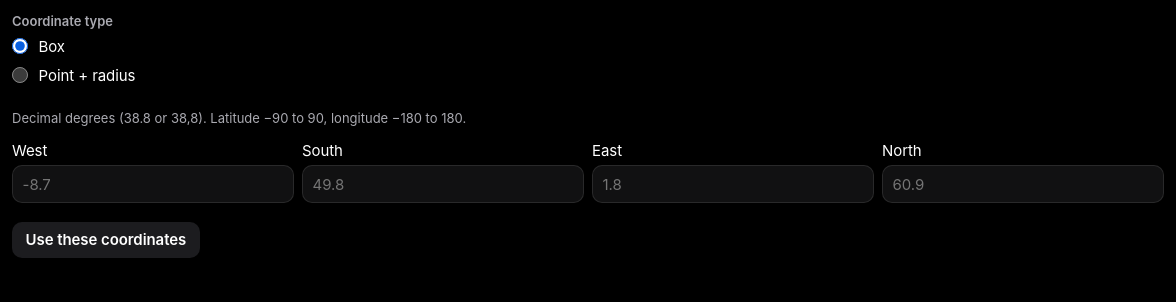
Scenario: CoordinateForm › shows a friendly error and does not submit
The image size is (1176, 302).
Type "5" into the field labelled "West" at (153, 184), box [12,165,294,203]
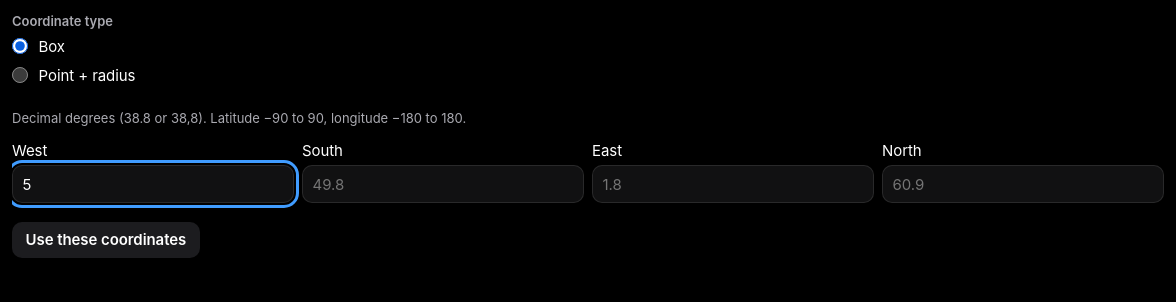
Type "50" into the field labelled "South" at (443, 184), box [302,165,584,203]
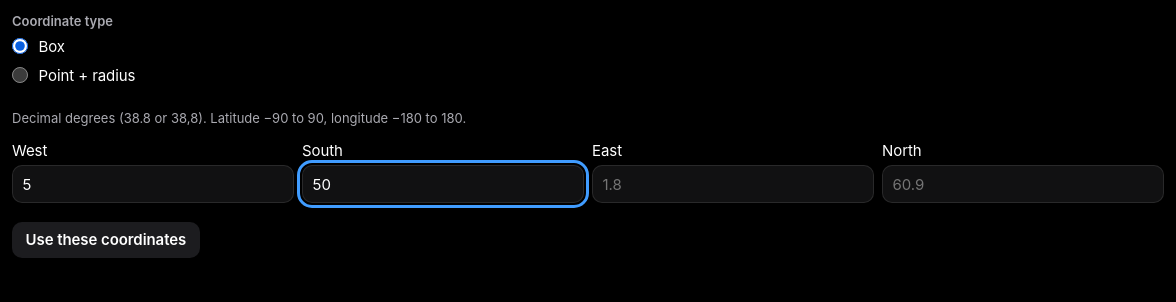
Type "1" into the field labelled "East" at (733, 184), box [592,165,874,203]
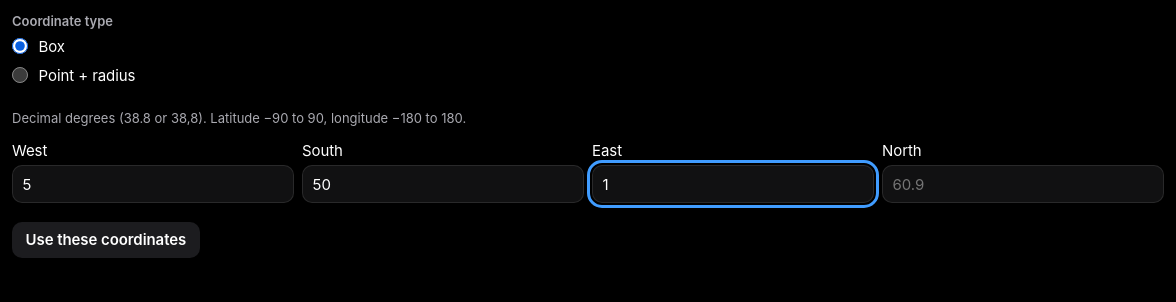
Type "60" into the field labelled "North" at (1023, 184), box [882,165,1164,203]
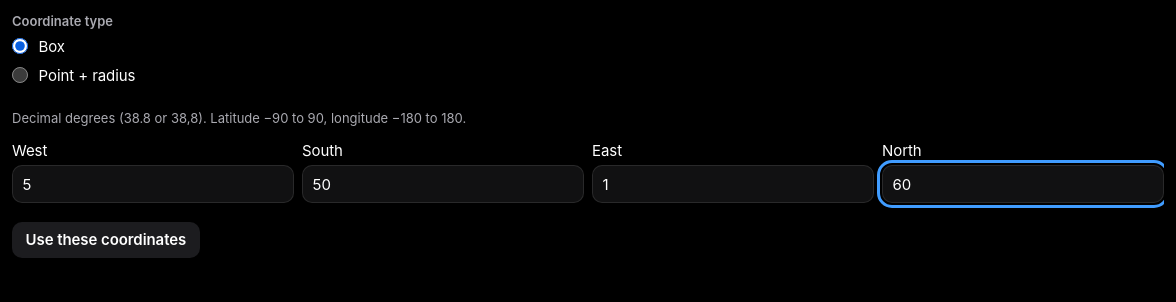
Click the button "Use these coordinates" at (106, 240), box [12,222,200,258]
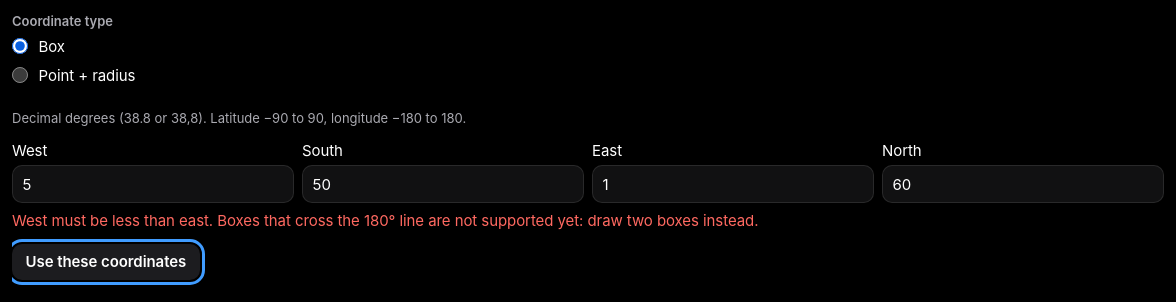
Now the message shows "West must be less than east", box [12,211,758,230]
